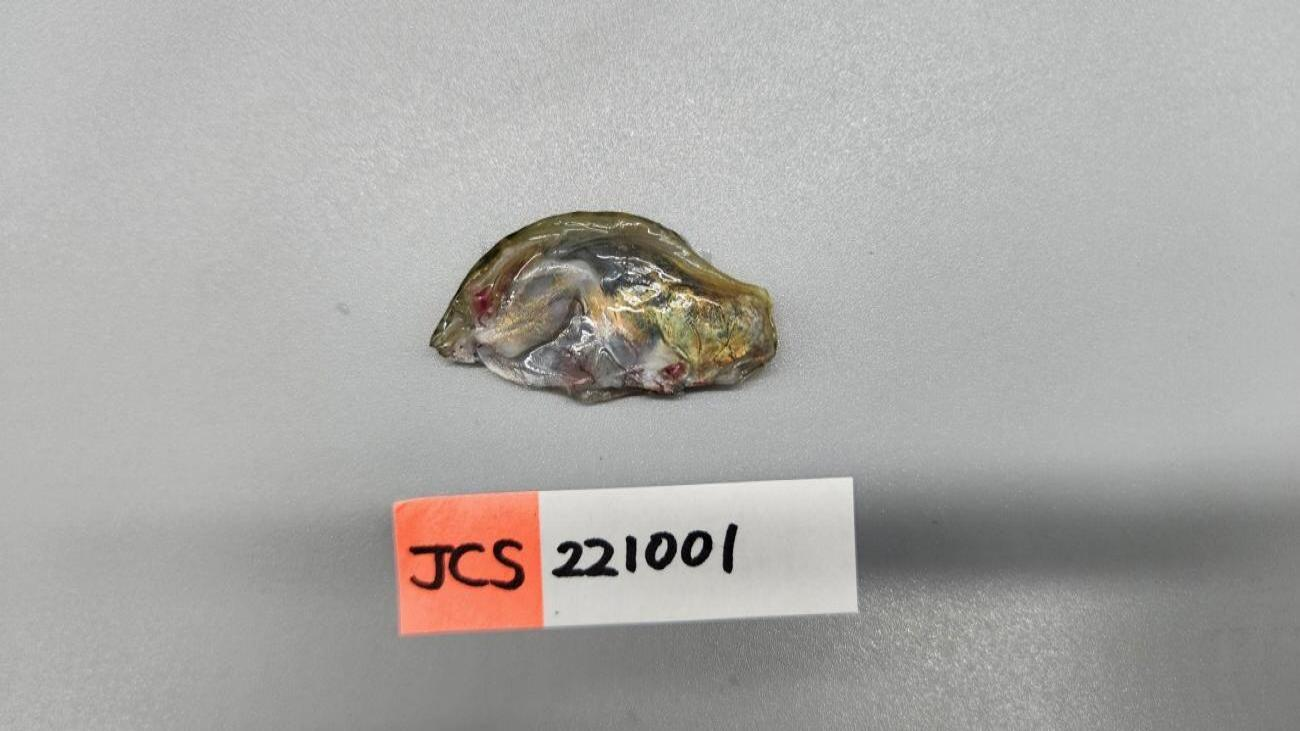POGCN: (430, 212, 781, 406)
